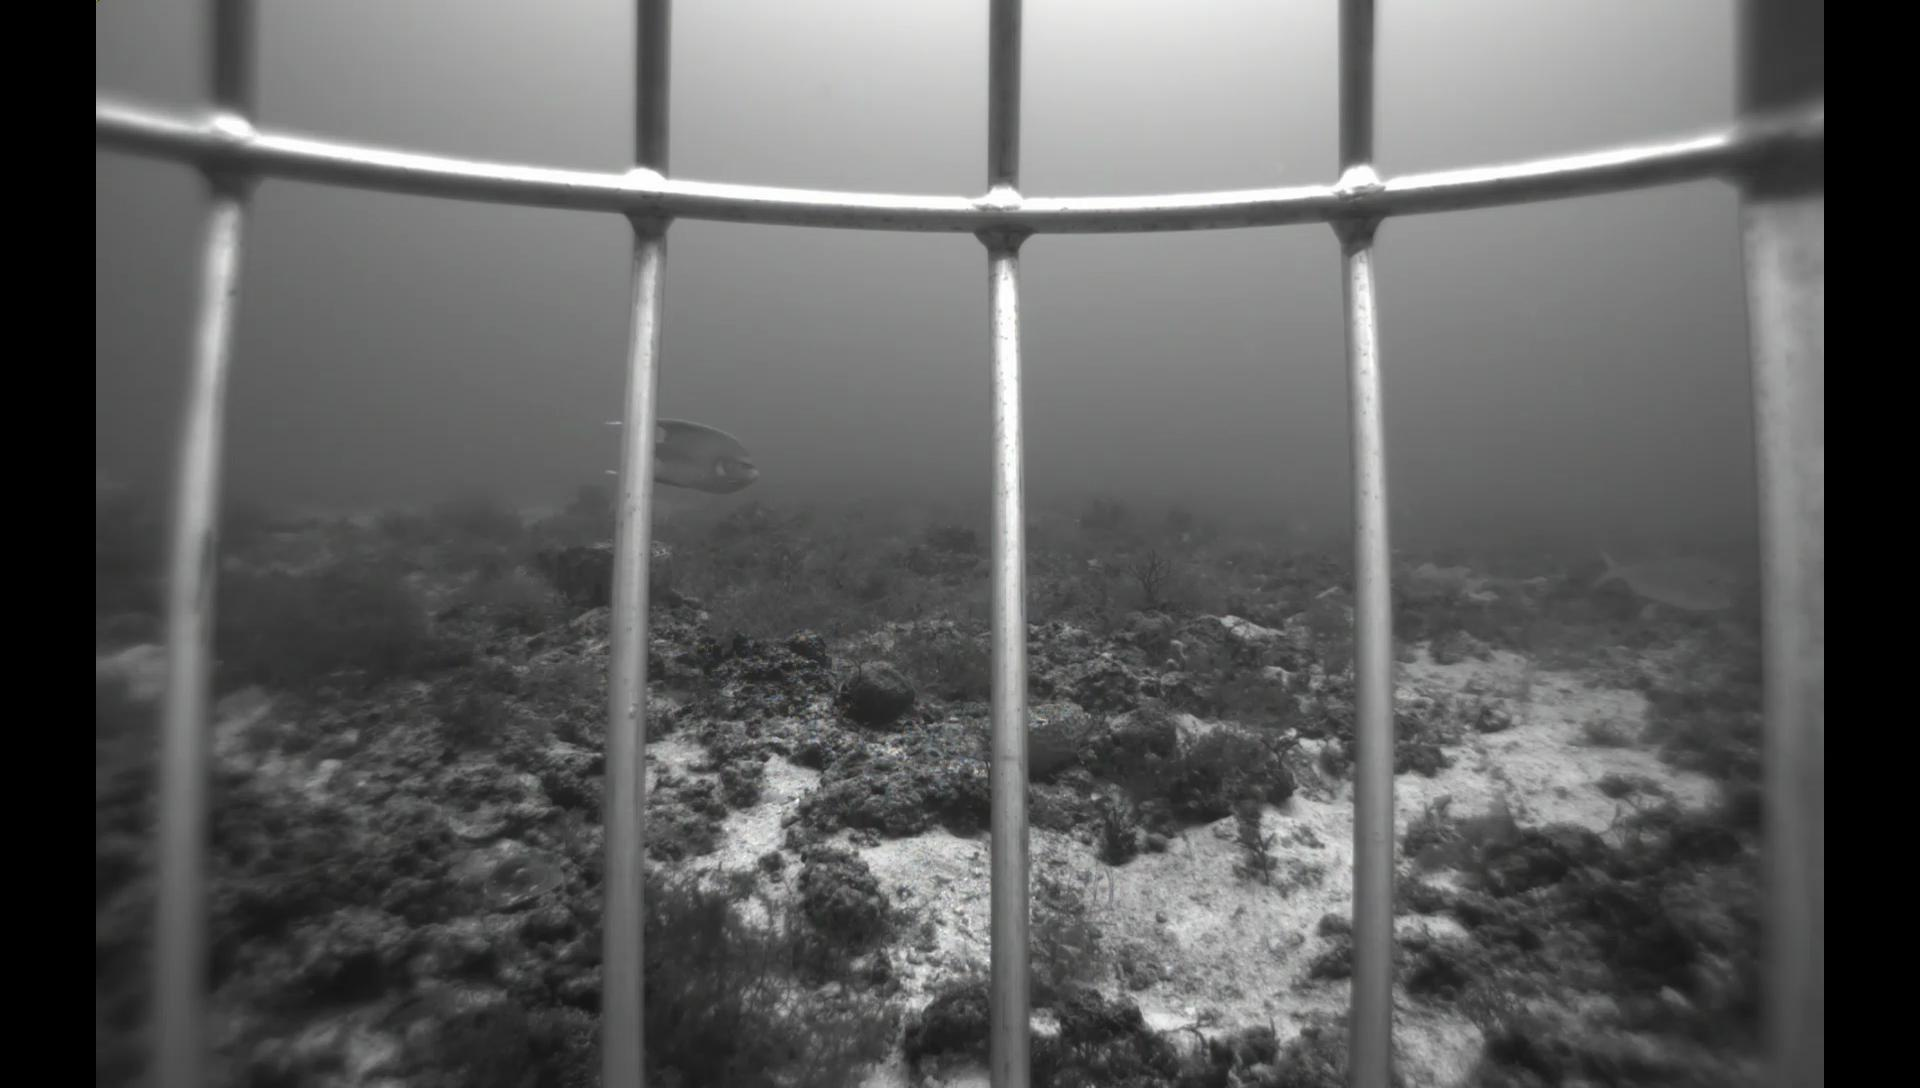CALAMUSNODOSUS-170210608: (1578, 533, 1741, 620)
HOLACANTHUSBERMUDENSIS-170290102: (592, 397, 767, 501)
SERRANUSANNULARIS-170024201: (368, 979, 465, 1044)
